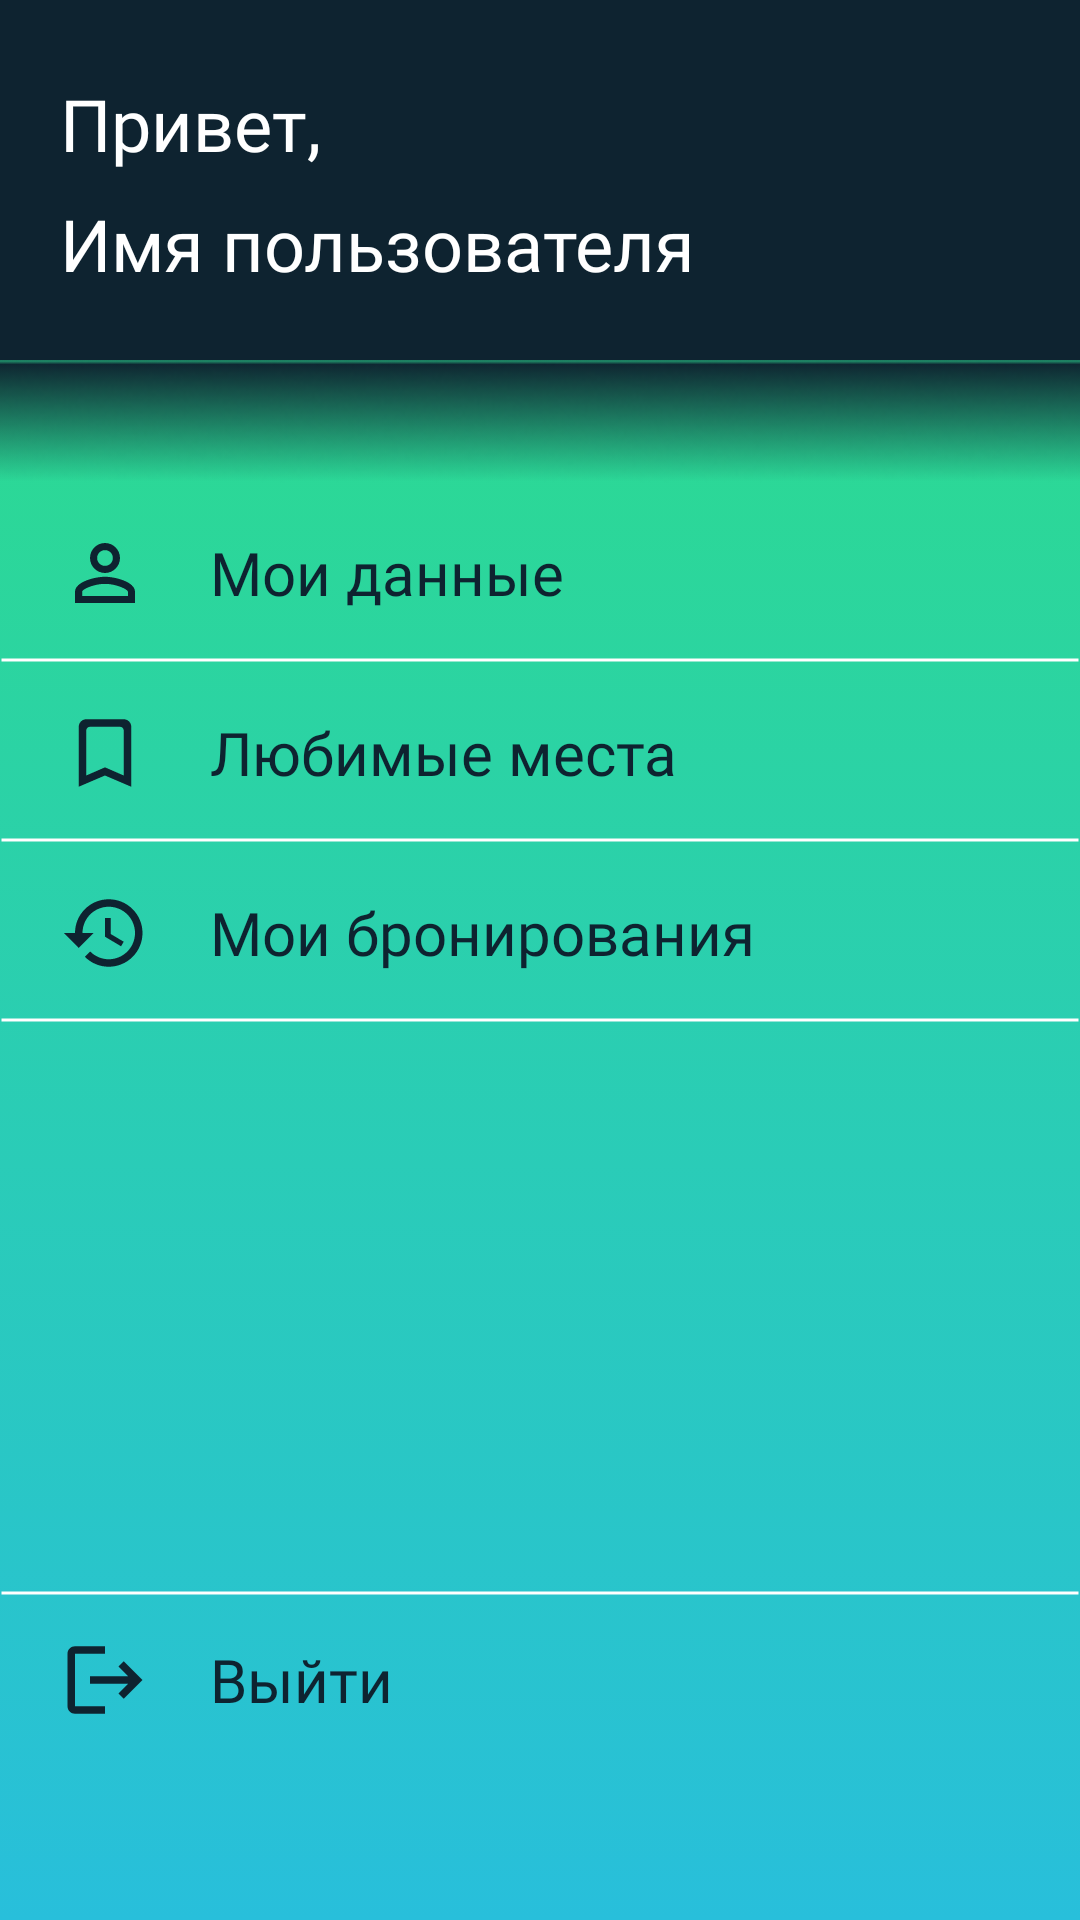

Screen size 1080px×1920px. Icon name, then its center in pixels as point (x, y):
bookmark border: point (105, 753)
last bookings: point (103, 933)
person: point (105, 573)
